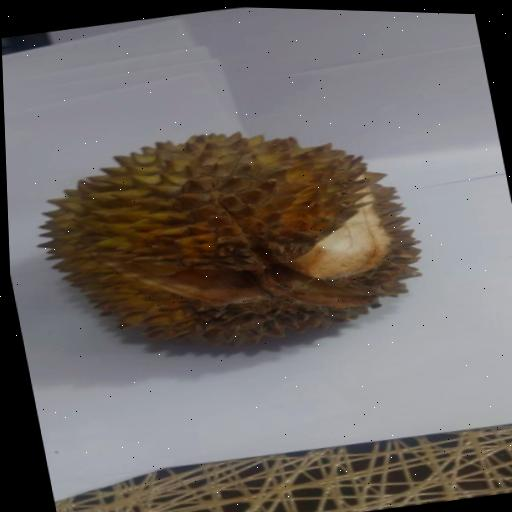rot: (5, 86, 449, 387)
